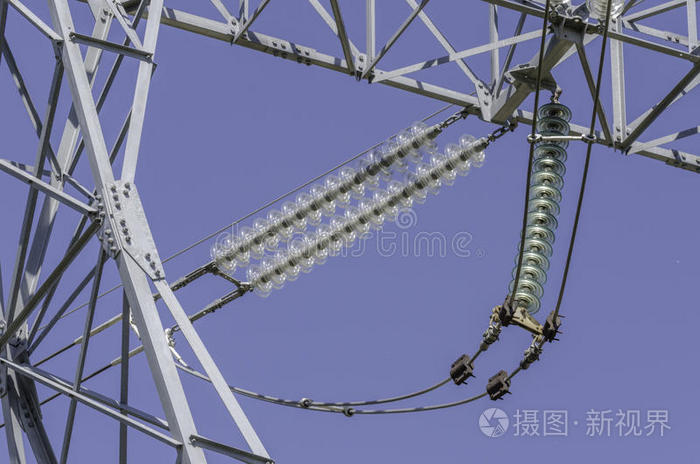insulator: (249, 136, 486, 297), (211, 121, 440, 272), (510, 102, 573, 309)
